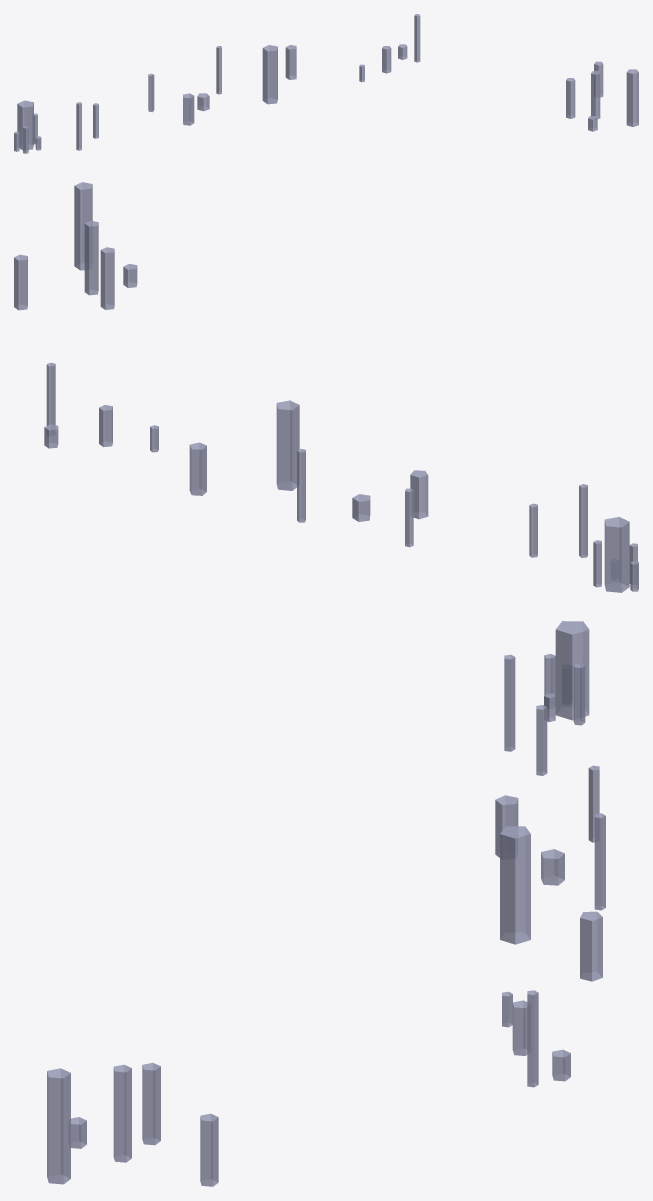
File: Glass_rock.fbx
3 renders of one model, top to bottom at view 1: azimuth 30°, elevation 25°; view 2: azimuth 150°, elevation 25°; view 3: azimuth 270°, elevation 25°, orthographic. The views are drawn at different scales.
Visible parts, largest first — view 1: Glass_rock_Now; view 2: Glass_rock_Now; view 3: Glass_rock_Now.
Part boxes in pixels (x1=…): Glass_rock_Now: x1=14, y1=14, x2=638, y2=153; Glass_rock_Now: x1=14, y1=182, x2=638, y2=592; Glass_rock_Now: x1=47, y1=621, x2=605, y2=1186.
Bounding box in the file's own units: 2919 × 296 × 1416.
